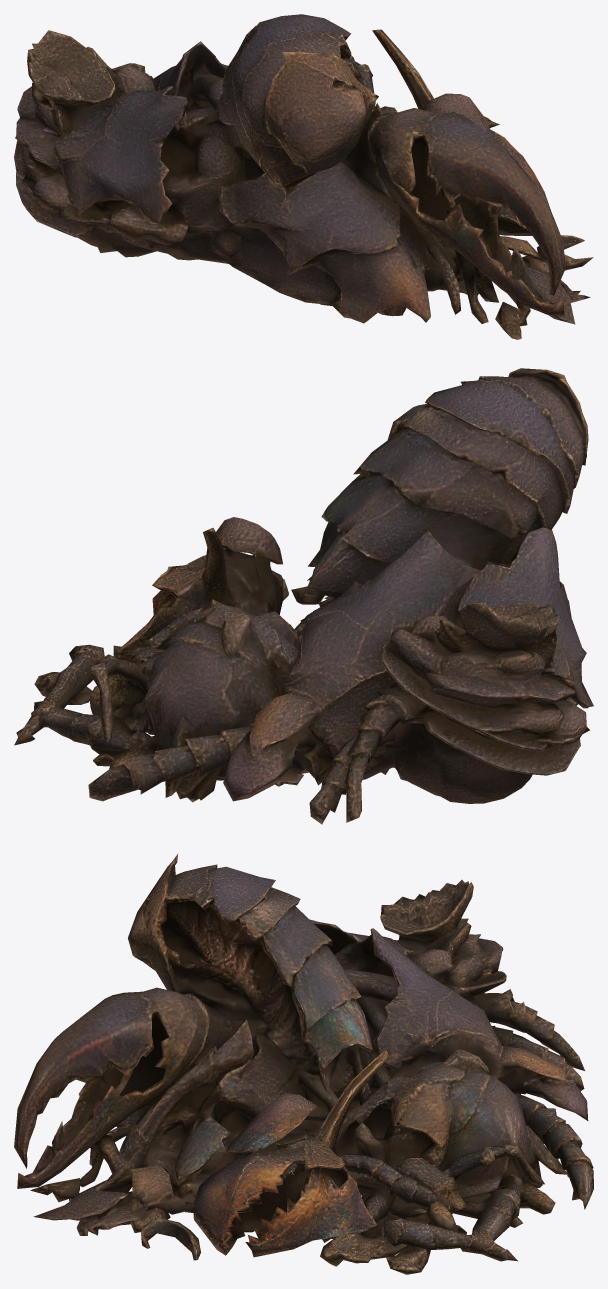
File: shed-chitin-pile.glb
3 views of the same model, one above another, from view 1: azimuth 30°, elevation 25°; view 2: azimuth 150°, elevation 25°; view 3: azimuth 270°, elevation 25° (orthographic). The views are drawn at different scales.
Parts seen in each view (by area): view 1: tripo_node_e39d26f9-15d0-40ef-b0a5-67e77802631b; view 2: tripo_node_e39d26f9-15d0-40ef-b0a5-67e77802631b; view 3: tripo_node_e39d26f9-15d0-40ef-b0a5-67e77802631b.
Boxes of the visible parts, x1,y1,x2,y2 form: tripo_node_e39d26f9-15d0-40ef-b0a5-67e77802631b: [14, 14, 593, 339]; tripo_node_e39d26f9-15d0-40ef-b0a5-67e77802631b: [14, 368, 593, 824]; tripo_node_e39d26f9-15d0-40ef-b0a5-67e77802631b: [14, 853, 593, 1274].
Bounding box in the file's own units: 0.913 × 0.5118 × 1.
Materials: 1 (1 with a texture image).
